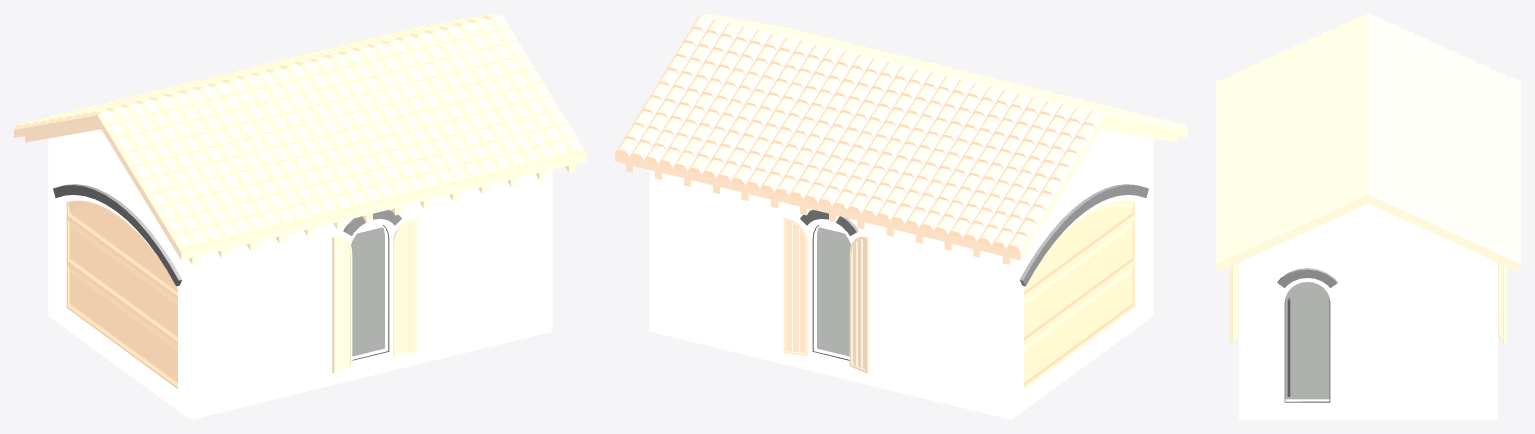
Rendered from SHC Spanish Modern Garage 1.dae.
3 renders of one model, left to right at view 1: azimuth 30°, elevation 25°; view 2: azimuth 150°, elevation 25°; view 3: azimuth 270°, elevation 25°, orthographic. The views are drawn at different scales.
Parts seen in each view (by area): view 1: Mesh690 Model.001, Mesh690 Model.003, Mesh690 Model.010, Mesh690 Model.002, Mesh690 Model.005, Mesh690 Model.004; view 2: Mesh690 Model.001, Mesh690 Model.003, Mesh690 Model.010, Mesh690 Model.002, Mesh690 Model.005, Mesh690 Model.004; view 3: Mesh690 Model.001, Mesh690 Model.003, Mesh690 Model.005, Mesh690 Model.002, Mesh690 Model.006, Mesh690 Model.004.
Boxes of the visible parts, x1=… form: Mesh690 Model.001: x1=14, y1=14, x2=586, y2=252; Mesh690 Model.003: x1=48, y1=129, x2=552, y2=419; Mesh690 Model.010: x1=66, y1=200, x2=177, y2=388; Mesh690 Model.002: x1=14, y1=115, x2=586, y2=373; Mesh690 Model.005: x1=351, y1=227, x2=384, y2=356; Mesh690 Model.004: x1=53, y1=184, x2=401, y2=286; Mesh690 Model.001: x1=615, y1=14, x2=1187, y2=252; Mesh690 Model.003: x1=649, y1=129, x2=1153, y2=419; Mesh690 Model.010: x1=1024, y1=200, x2=1135, y2=388; Mesh690 Model.002: x1=615, y1=115, x2=1187, y2=373; Mesh690 Model.005: x1=817, y1=227, x2=850, y2=356; Mesh690 Model.004: x1=800, y1=184, x2=1148, y2=286; Mesh690 Model.001: x1=1216, y1=14, x2=1520, y2=263; Mesh690 Model.003: x1=1239, y1=204, x2=1497, y2=419; Mesh690 Model.005: x1=1285, y1=282, x2=1329, y2=399; Mesh690 Model.002: x1=1216, y1=195, x2=1520, y2=343; Mesh690 Model.006: x1=1284, y1=297, x2=1330, y2=402; Mesh690 Model.004: x1=1277, y1=268, x2=1337, y2=287.
Bounding box in the file's own units: 7 × 5 × 4.29.
